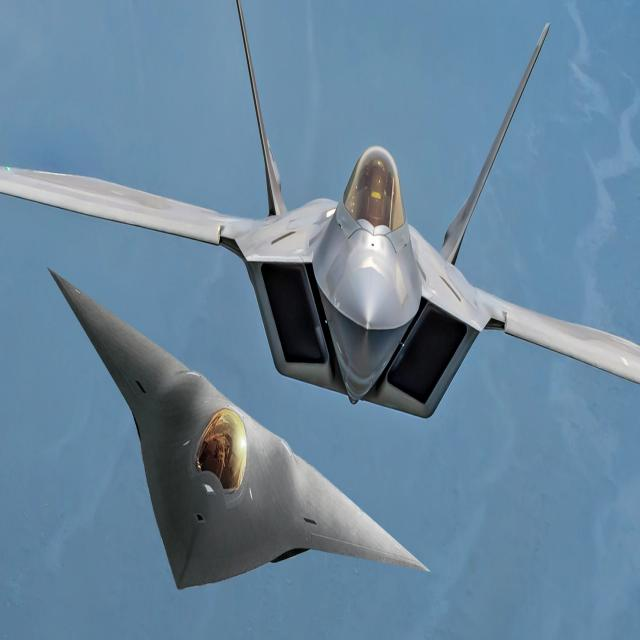F22: (2, 3, 640, 409)
